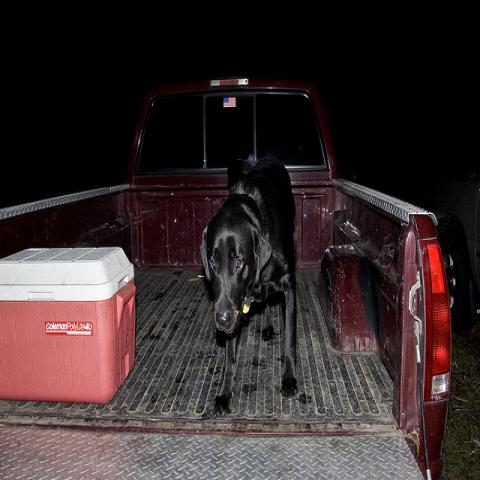truck: (0, 73, 456, 474)
